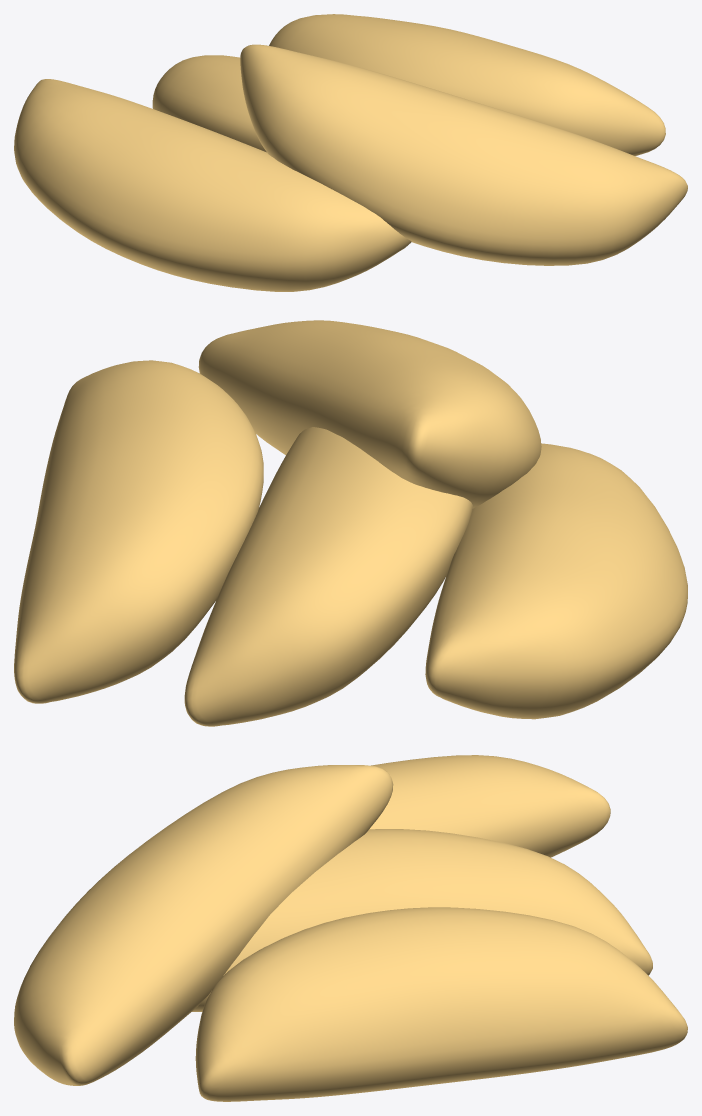
Rendered from dongzhi.glb.
The picture shows the model from 3 angles, top to bottom: view 1: azimuth 30°, elevation 25°; view 2: azimuth 150°, elevation 25°; view 3: azimuth 270°, elevation 25°; orthographic projection. The views are drawn at different scales.
Visible parts, largest first — view 1: Mesh.005, Mesh.008, Mesh.006, Mesh.007; view 2: Mesh.006, Mesh.008, Mesh.007, Mesh.005; view 3: Mesh.006, Mesh.005, Mesh.007, Mesh.008.
Part boxes in pixels (x1,y1,x2,y2): Mesh.005: (240,44,687,265); Mesh.008: (14,79,411,291); Mesh.006: (269,14,665,155); Mesh.007: (152,55,266,152); Mesh.006: (14,360,263,703); Mesh.008: (425,443,687,719); Mesh.007: (184,427,472,726); Mesh.005: (198,320,541,508); Mesh.006: (195,907,687,1101); Mesh.005: (14,765,393,1085); Mesh.007: (192,829,652,1011); Mesh.008: (369,755,610,857).
Size of the model in its own units: 5.13 by 1.66 by 4.95.
